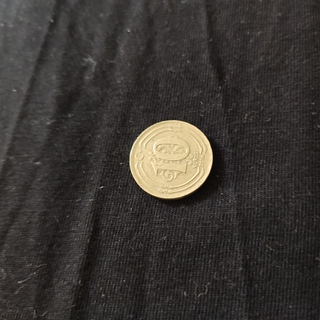10KURUS: (127, 118, 215, 201)
